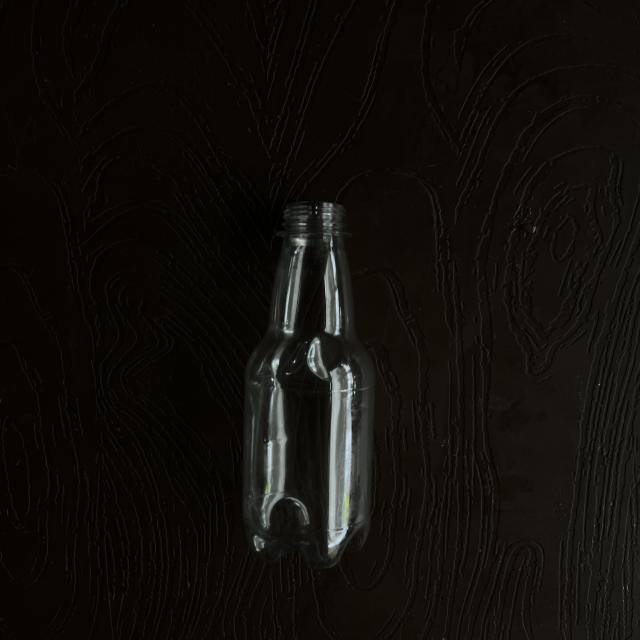PET_ClearBottle: (235, 197, 401, 570)
